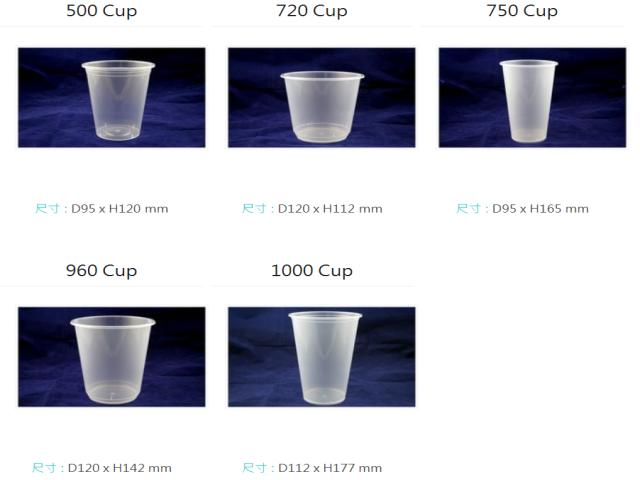cup: (70, 315, 155, 404), (289, 311, 361, 405), (281, 71, 364, 143), (81, 60, 155, 140), (500, 60, 558, 143)
